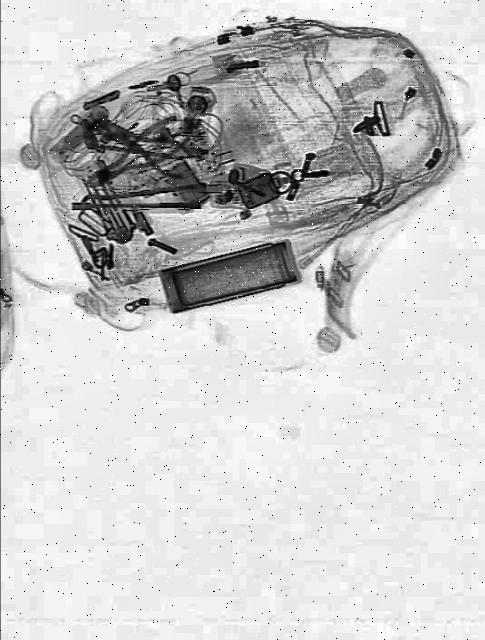Pliers: (79, 110, 191, 206), (87, 104, 197, 190)
